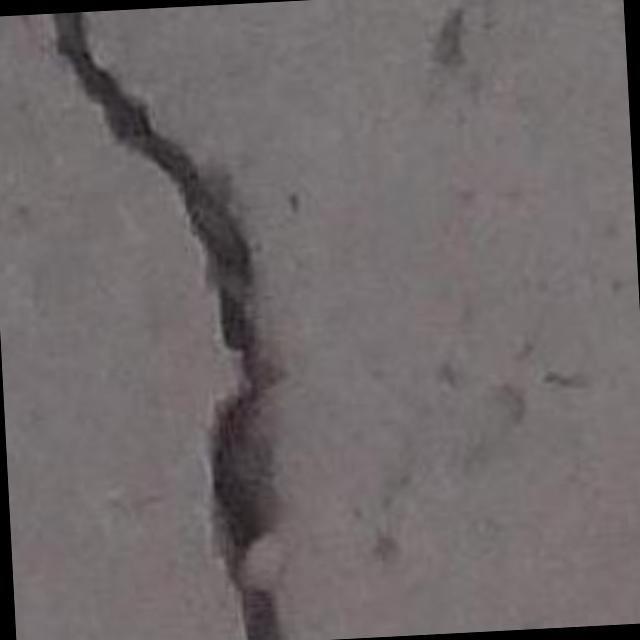crack: (54, 12, 283, 639)
